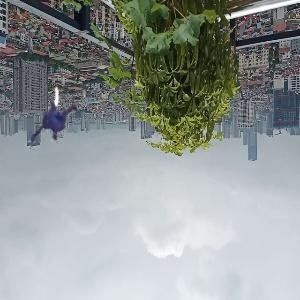drone: (16, 77, 96, 157)
